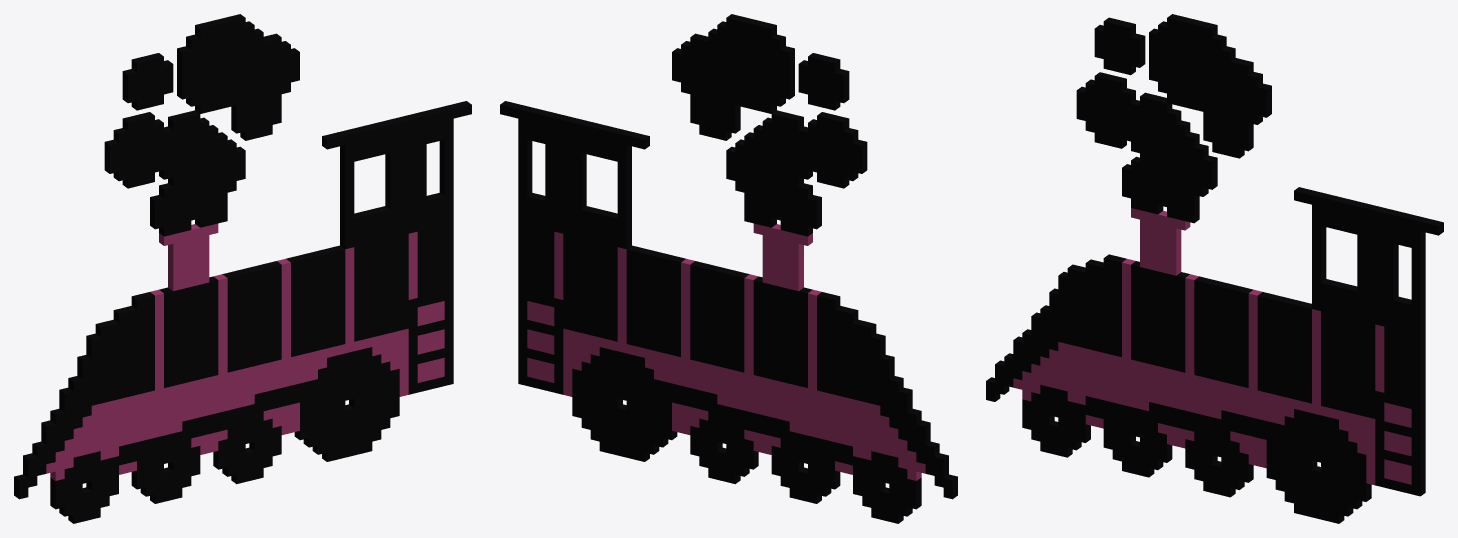
The model's file is Train3.obj.
3 views of the same model, side by side, from view 1: azimuth 30°, elevation 25°; view 2: azimuth 150°, elevation 25°; view 3: azimuth 330°, elevation 25° (orthographic).
Size of the model in its own units: 5 by 4.9 by 0.1.
Materials: 1 (1 with a texture image).
